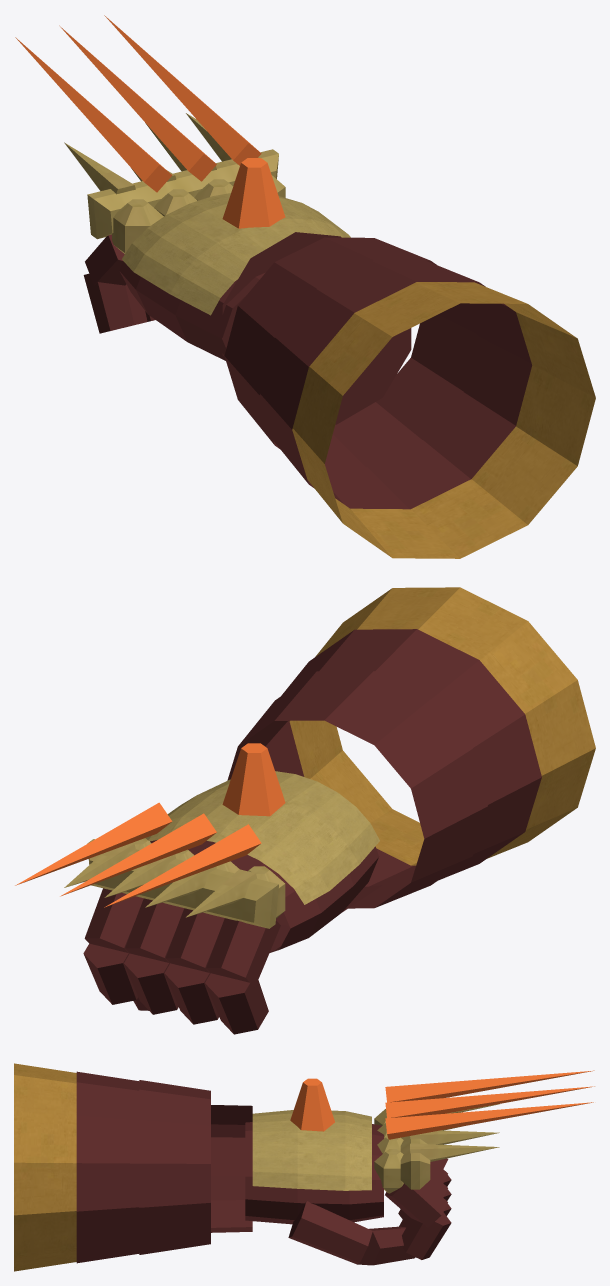
The model's file is wpn_gauntlet_legend.glb.
3 renders of one model, top to bottom at view 1: azimuth 30°, elevation 25°; view 2: azimuth 150°, elevation 25°; view 3: azimuth 270°, elevation 25°, orthographic. The views are drawn at different scales.
Parts seen in each view (by area): view 1: wpn_gauntlet_legend; view 2: wpn_gauntlet_legend; view 3: wpn_gauntlet_legend.
Boxes of the visible parts, bbox=[...] form: wpn_gauntlet_legend: bbox=[15, 15, 595, 558]; wpn_gauntlet_legend: bbox=[15, 587, 595, 1034]; wpn_gauntlet_legend: bbox=[14, 1063, 594, 1271].
Size of the model in its own units: 0.152 by 0.1368 by 0.39.
Materials: 4 (4 with a texture image).
